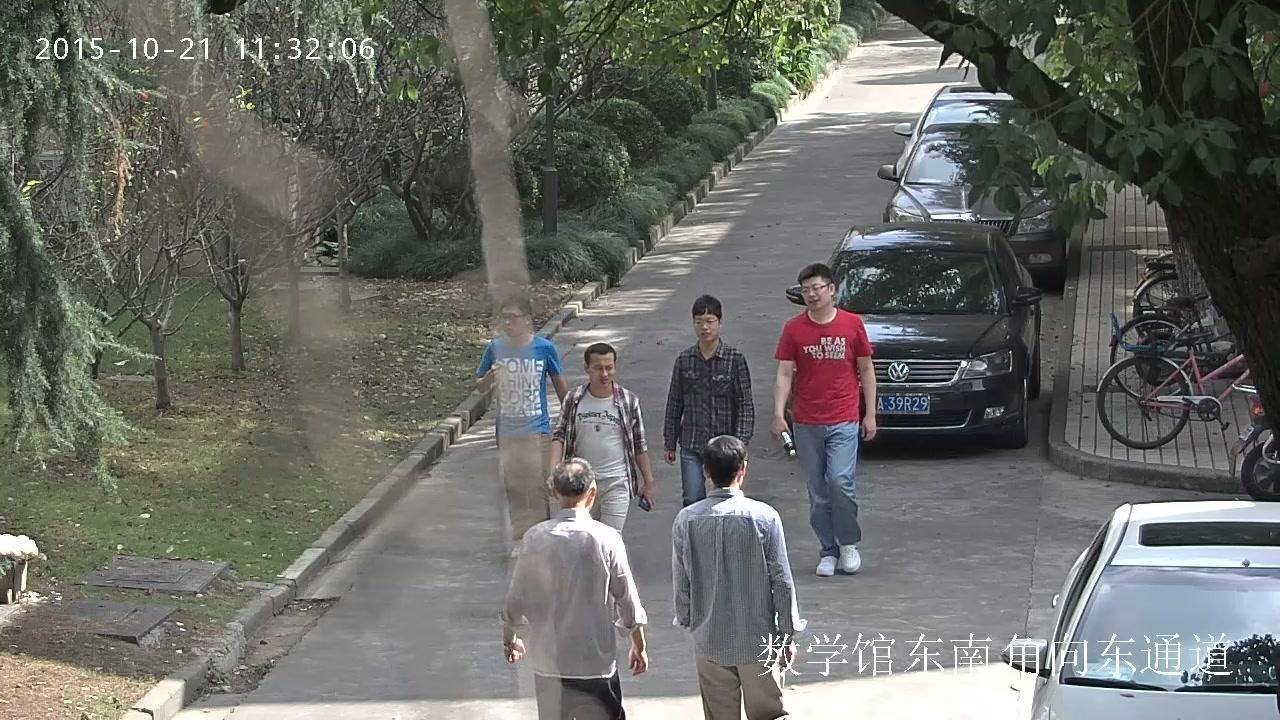person: (501, 455, 654, 720), (670, 434, 804, 720), (772, 259, 880, 576), (471, 293, 576, 556), (548, 338, 652, 541), (661, 295, 763, 499)
